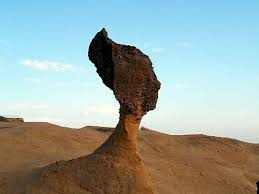yehliu: (82, 24, 172, 115)
